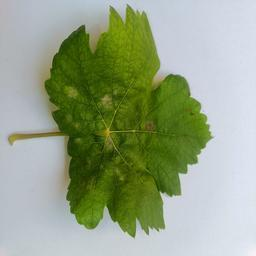Powdery-Mildew: (95, 123, 119, 157), (136, 118, 166, 144), (79, 114, 96, 130), (112, 167, 128, 184), (129, 22, 145, 38), (97, 93, 113, 109)
